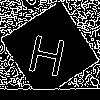H: (25, 25, 71, 77)
